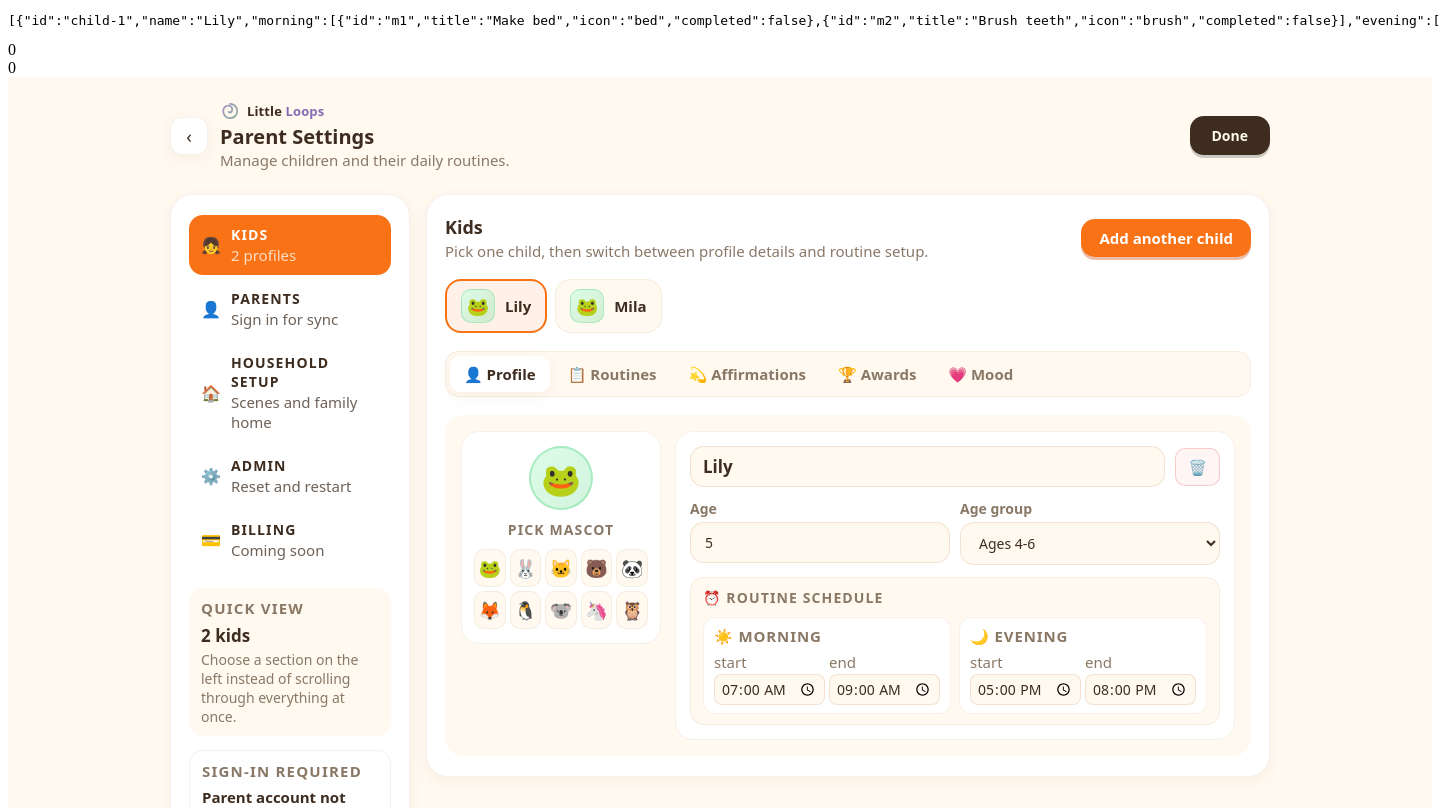
Test case: ParentSettings › requires confirmation before resetting all app data
Click the button "⚙️ Admin Reset and restart": (290, 476) [189,446,391,506]
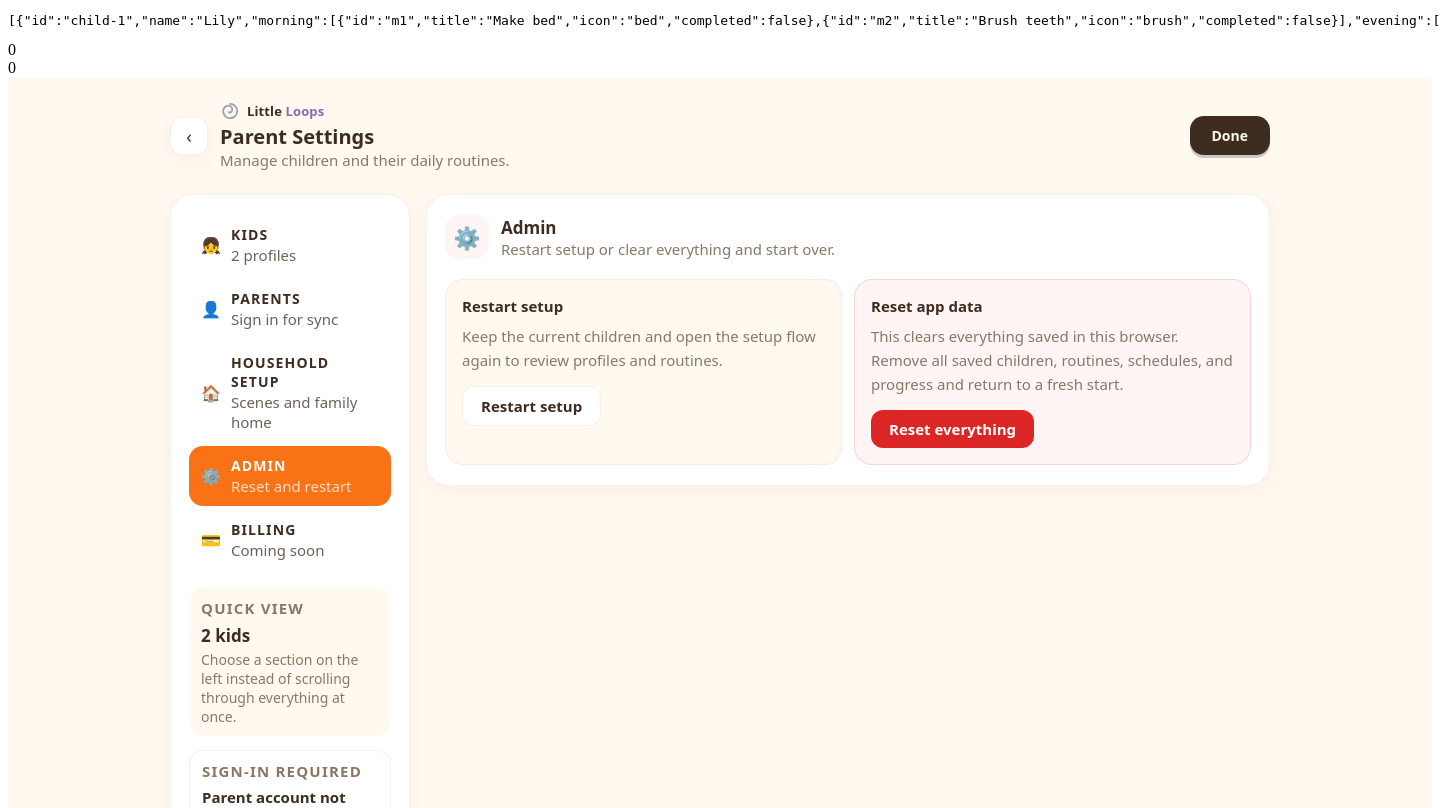
Click the button "Reset everything": (953, 429) [871,410,1034,448]
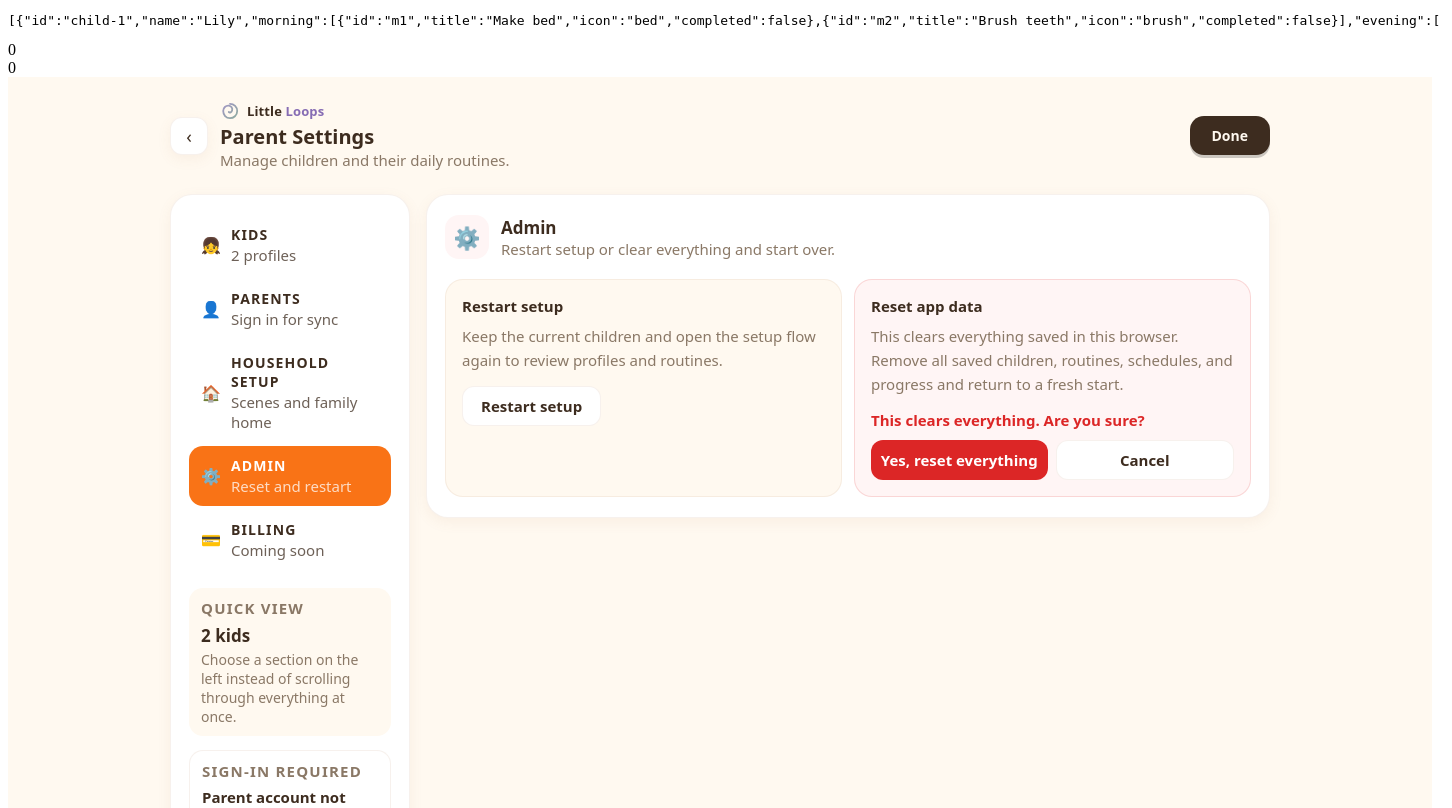
Expected: the text with test id "reset-count" reads "0", [8,59,16,76]
Expected: the text "This clears everything saved in this browser" is shown, [871,326,1233,394]
Click the button "Yes, reset everything": (959, 460) [871,440,1048,480]
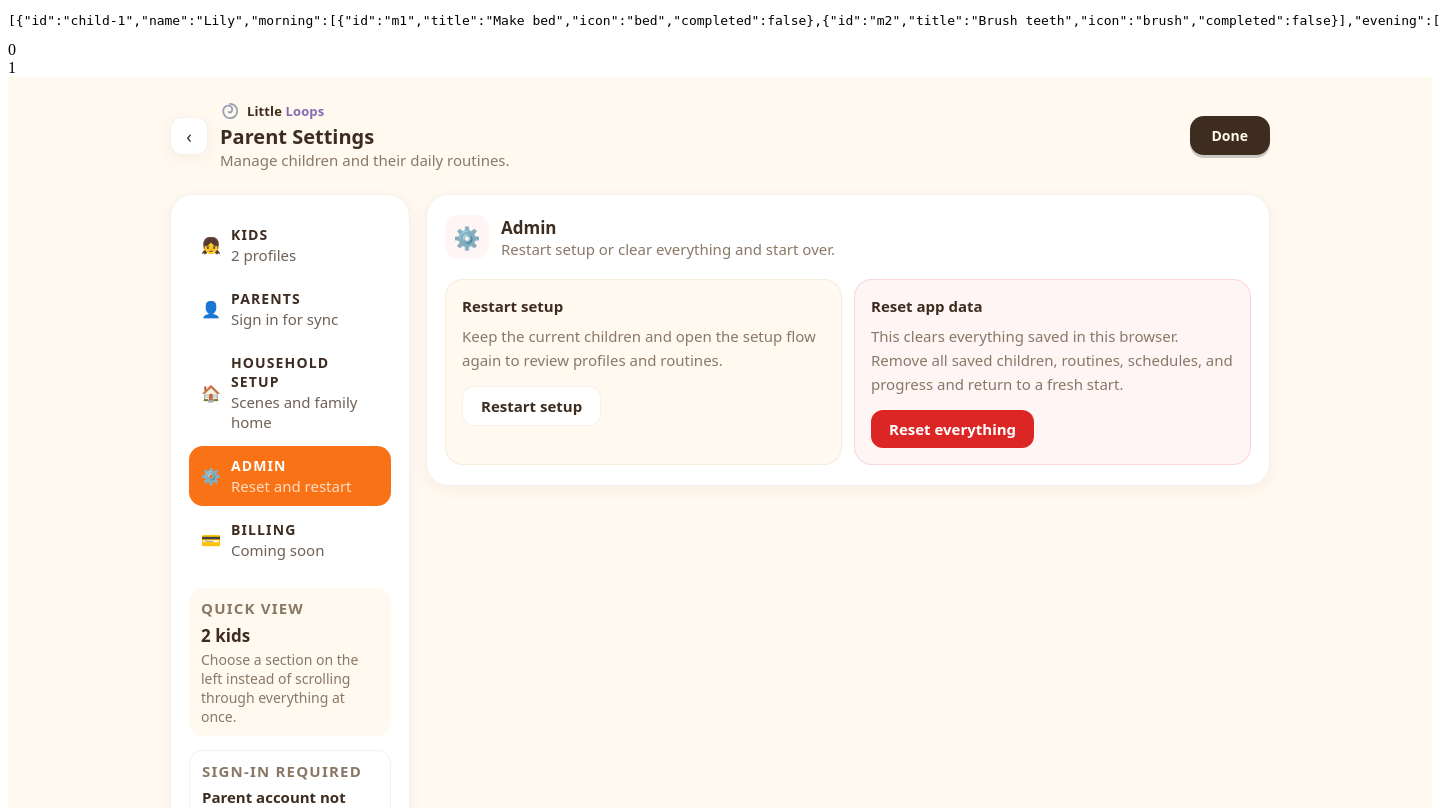
Expected: the text with test id "reset-count" reads "1", [8,59,16,76]
